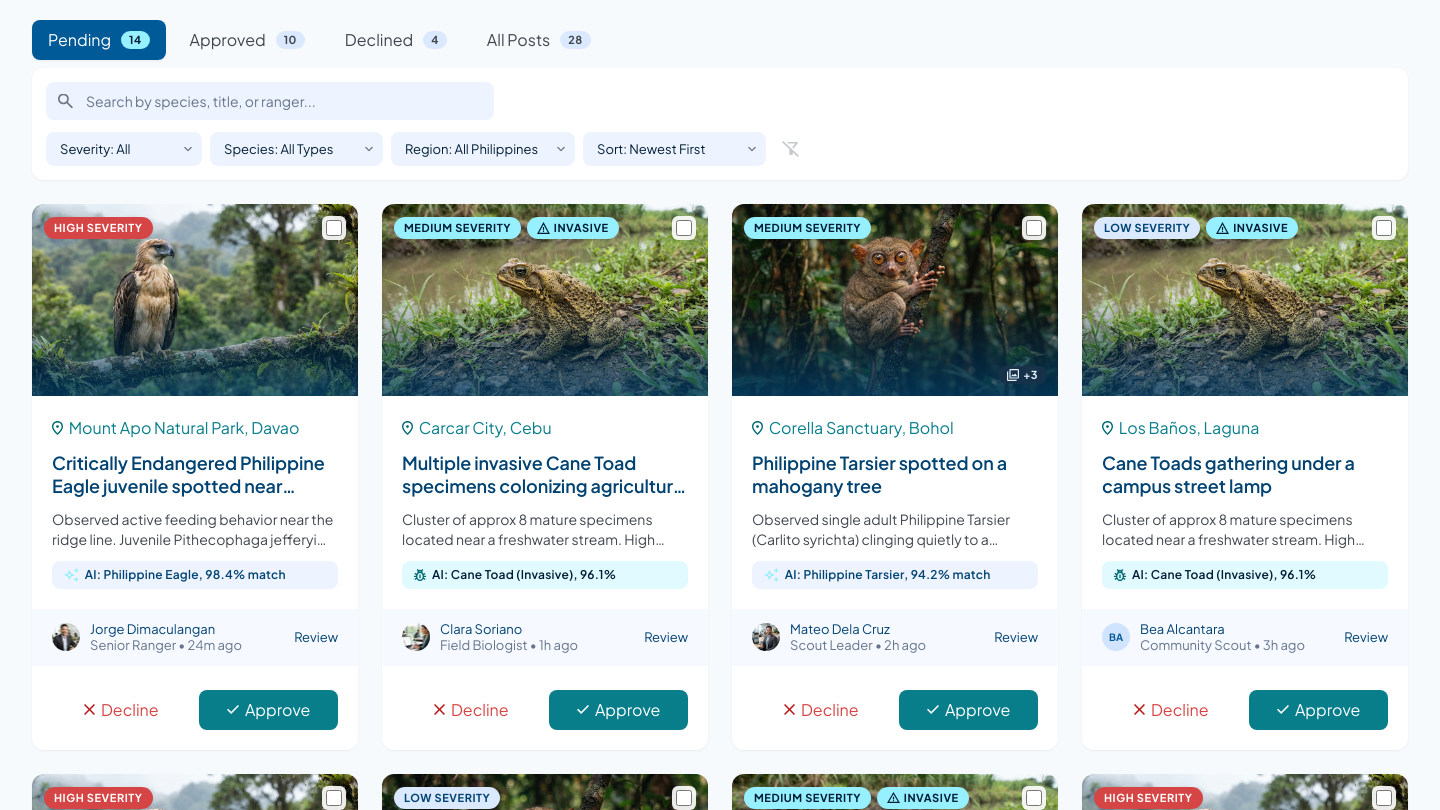
it: PostApprovalsScreen › switches tabs
Click the button "Declined 4" at (396, 40), box [329,20,463,60]
(page scrolled)
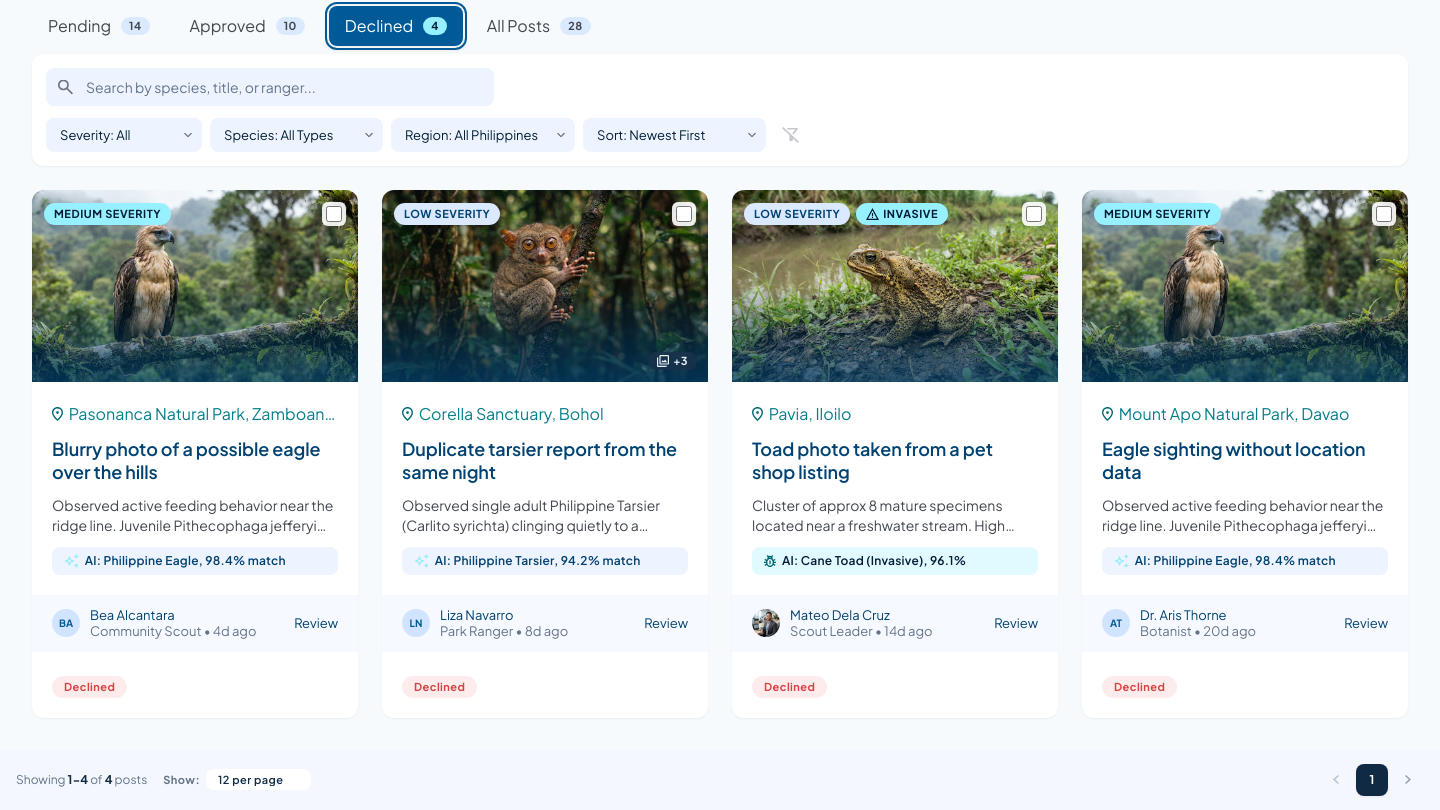
Expected: the text "Declined" is shown, [52,676,127,698]
